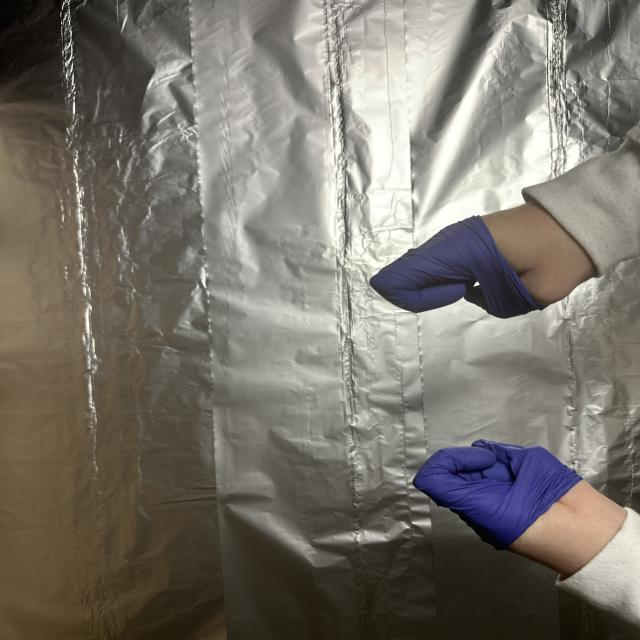glove_partial: (412, 435, 628, 578), (368, 202, 599, 318)
